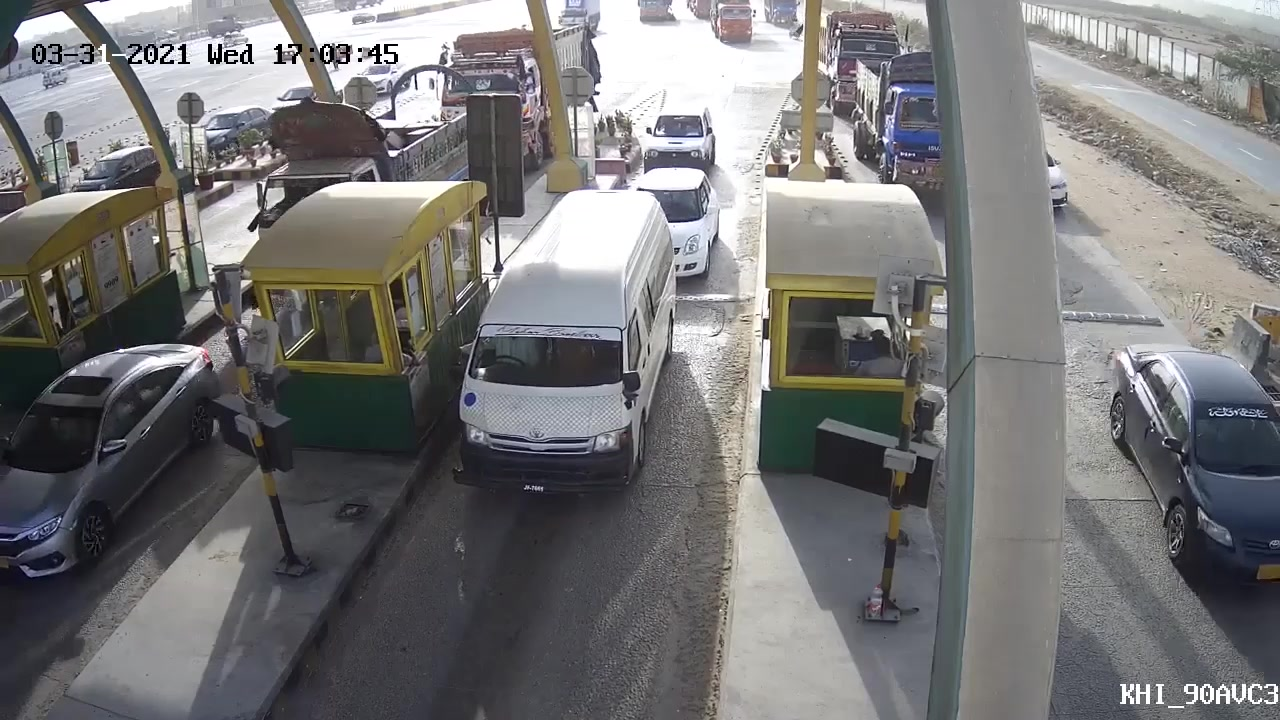F2: (440, 192, 678, 500)
